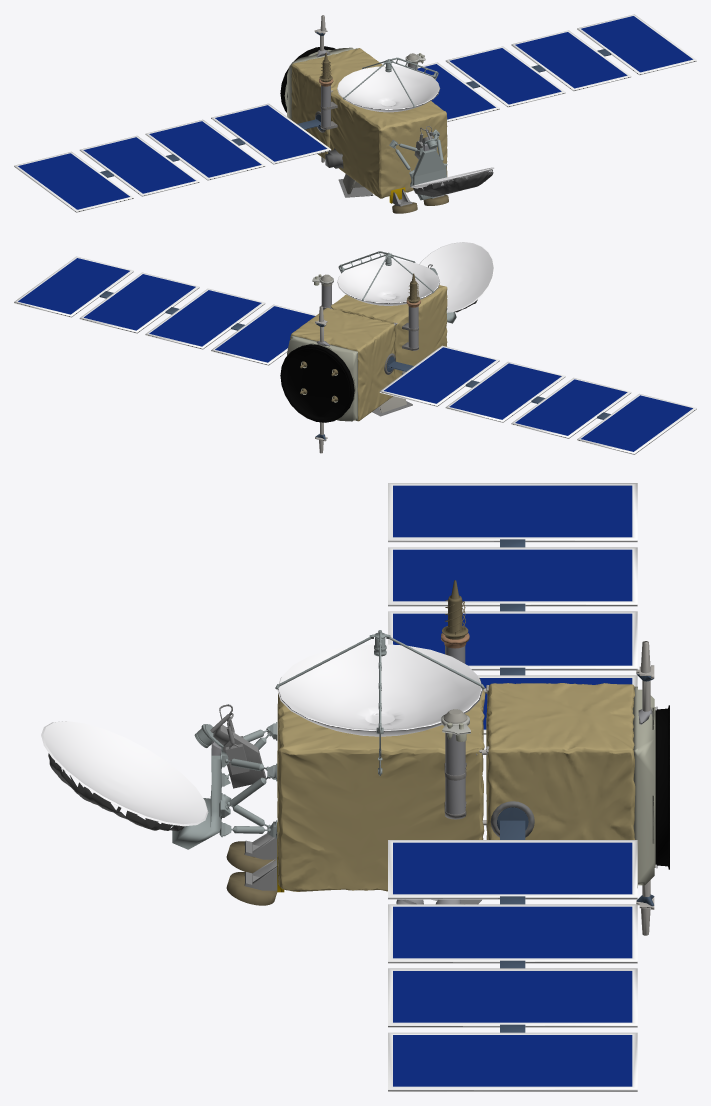
File: satellite.gltf
The picture shows the model from 3 angles, top to bottom: view 1: azimuth 30°, elevation 25°; view 2: azimuth 150°, elevation 25°; view 3: azimuth 270°, elevation 25°; orthographic projection. The views are drawn at different scales.
Visible parts, largest first — view 1: OSTM_Jason2_Layered_016__Layer31_, OSTM_Jason2_Layered_016___unnamed__, OSTM_Jason2_Layered_016__Layer33_, OSTM_Jason2_Layered_016__Layer10_, OSTM_Jason2_Layered_016__Layer11_, OSTM_Jason2_Layered_016__Layer36_, OSTM_Jason2_Layered_016__Layer34_, OSTM_Jason2_Layered_016__Layer8_, OSTM_Jason2_Layered_016__Layer13_, OSTM_Jason2_Layered_016__Layer25_, OSTM_Jason2_Layered_016__Layer9_; view 2: OSTM_Jason2_Layered_016__Layer31_, OSTM_Jason2_Layered_016___unnamed__, OSTM_Jason2_Layered_016__Layer10_, OSTM_Jason2_Layered_016__Layer33_, OSTM_Jason2_Layered_016__Layer9_, OSTM_Jason2_Layered_016__Layer8_, OSTM_Jason2_Layered_016__Layer11_, OSTM_Jason2_Layered_016__Layer13_, OSTM_Jason2_Layered_016__Layer34_; view 3: OSTM_Jason2_Layered_016__Layer31_, OSTM_Jason2_Layered_016___unnamed__, OSTM_Jason2_Layered_016__Layer10_, OSTM_Jason2_Layered_016__Layer33_, OSTM_Jason2_Layered_016__Layer11_, OSTM_Jason2_Layered_016__Layer8_, OSTM_Jason2_Layered_016__Layer9_, OSTM_Jason2_Layered_016__Layer34_, OSTM_Jason2_Layered_016__Layer13_, OSTM_Jason2_Layered_016__Layer25_, OSTM_Jason2_Layered_016__Layer2_, OSTM_Jason2_Layered_016__Layer26_ (+3 smaller).
Part boxes in pixels (x1,y1,x2,y2): OSTM_Jason2_Layered_016__Layer31_: [18, 16, 692, 209]; OSTM_Jason2_Layered_016___unnamed__: [291, 48, 447, 198]; OSTM_Jason2_Layered_016__Layer33_: [14, 14, 696, 212]; OSTM_Jason2_Layered_016__Layer10_: [337, 66, 493, 188]; OSTM_Jason2_Layered_016__Layer11_: [343, 57, 455, 200]; OSTM_Jason2_Layered_016__Layer36_: [413, 170, 493, 196]; OSTM_Jason2_Layered_016__Layer34_: [100, 49, 611, 177]; OSTM_Jason2_Layered_016__Layer8_: [284, 47, 356, 119]; OSTM_Jason2_Layered_016__Layer13_: [321, 64, 417, 127]; OSTM_Jason2_Layered_016__Layer25_: [392, 194, 448, 213]; OSTM_Jason2_Layered_016__Layer9_: [280, 46, 335, 112]; OSTM_Jason2_Layered_016__Layer31_: [18, 258, 692, 451]; OSTM_Jason2_Layered_016___unnamed__: [290, 285, 447, 421]; OSTM_Jason2_Layered_016__Layer10_: [337, 242, 494, 312]; OSTM_Jason2_Layered_016__Layer33_: [14, 256, 696, 454]; OSTM_Jason2_Layered_016__Layer9_: [280, 344, 354, 422]; OSTM_Jason2_Layered_016__Layer8_: [287, 335, 357, 421]; OSTM_Jason2_Layered_016__Layer11_: [338, 251, 456, 323]; OSTM_Jason2_Layered_016__Layer13_: [321, 285, 418, 348]; OSTM_Jason2_Layered_016__Layer34_: [99, 291, 610, 419]; OSTM_Jason2_Layered_016__Layer31_: [393, 485, 632, 1086]; OSTM_Jason2_Layered_016___unnamed__: [277, 683, 635, 891]; OSTM_Jason2_Layered_016__Layer10_: [41, 644, 482, 826]; OSTM_Jason2_Layered_016__Layer33_: [388, 483, 637, 1091]; OSTM_Jason2_Layered_016__Layer11_: [172, 630, 484, 849]; OSTM_Jason2_Layered_016__Layer8_: [632, 686, 655, 887]; OSTM_Jason2_Layered_016__Layer9_: [655, 705, 669, 869]; OSTM_Jason2_Layered_016__Layer34_: [497, 539, 528, 1032]; OSTM_Jason2_Layered_016__Layer13_: [445, 646, 465, 814]; OSTM_Jason2_Layered_016__Layer25_: [226, 841, 277, 905]; OSTM_Jason2_Layered_016__Layer2_: [213, 725, 265, 788]; OSTM_Jason2_Layered_016__Layer26_: [244, 833, 277, 890].
Bounding box in the file's own units: 2249 × 537 × 987.
